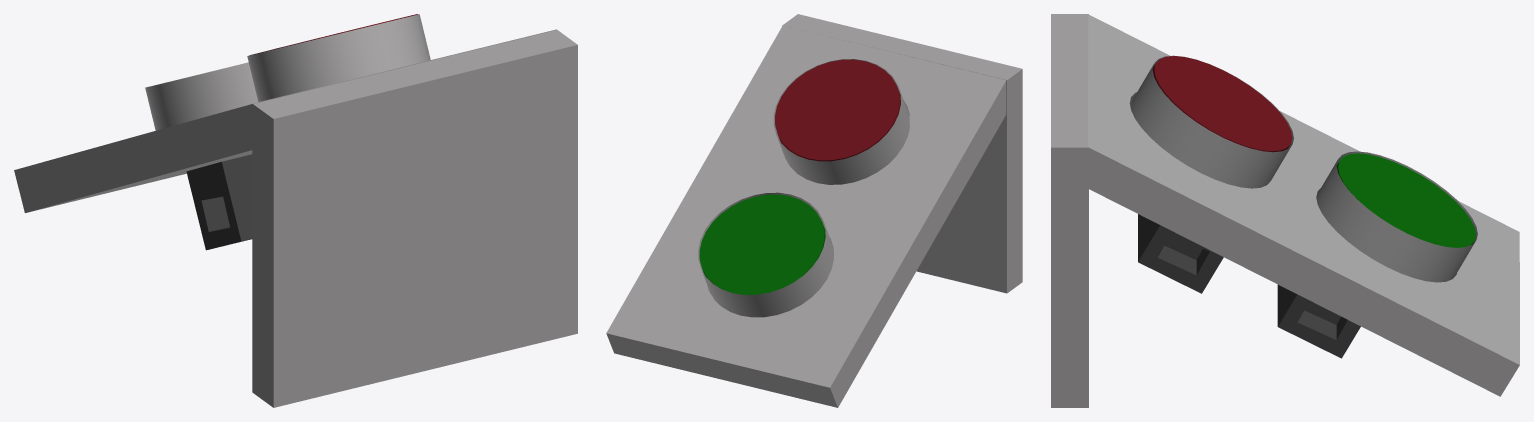
File: control3.fbx
3 renders of one model, left to right at view 1: azimuth 30°, elevation 25°; view 2: azimuth 150°, elevation 25°; view 3: azimuth 270°, elevation 25°, orthographic. The views are drawn at different scales.
Parts seen in each view (by area): view 1: Cubo, Cubo.001, Cilindro, Cubo.003, Cilindro.004; view 2: Cubo.001, Cubo, Cilindro.003, Cilindro.002, Cilindro, Cilindro.004; view 3: Cubo.001, Cubo, Cilindro.003, Cilindro.002, Cilindro, Cilindro.004, Cubo.002, Cubo.003.
Part boxes in pixels (x1,y1,x2,y2): Cubo: (252,30,577,407); Cubo.001: (14,29,556,212); Cilindro: (247,14,430,101); Cubo.003: (186,154,252,250); Cilindro.004: (145,62,258,130); Cubo.001: (606,25,1006,407); Cubo: (782,14,1022,293); Cilindro.003: (775,59,900,161); Cilindro.002: (699,194,825,294); Cilindro: (773,59,909,184); Cilindro.004: (698,192,833,317); Cubo.001: (1088,14,1519,396); Cubo: (1051,14,1088,407); Cilindro.003: (1152,56,1292,152); Cilindro.002: (1336,153,1475,247); Cilindro: (1131,55,1293,188); Cilindro.004: (1316,151,1477,282); Cubo.002: (1138,214,1223,293); Cubo.003: (1277,284,1360,358).
Size of the model in its own units: 390 by 371 by 578.
